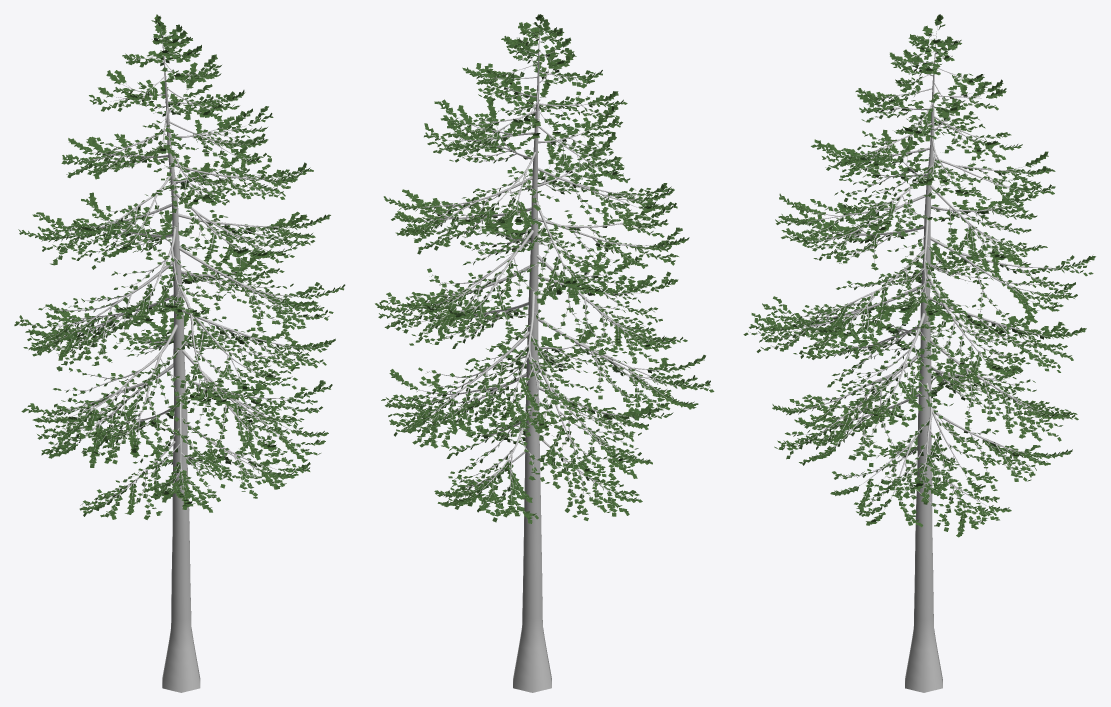
File: douglas.fbx
The picture shows the model from 3 angles, left to right: view 1: azimuth 30°, elevation 25°; view 2: azimuth 150°, elevation 25°; view 3: azimuth 270°, elevation 25°; orthographic projection. The views are drawn at different scales.
Parts seen in each view (by area): view 1: leaves, tree; view 2: leaves, tree; view 3: leaves, tree.
Part boxes in pixels (bbox=[...]): leaves: bbox=[14, 14, 345, 519]; tree: bbox=[27, 28, 326, 692]; leaves: bbox=[375, 14, 714, 523]; tree: bbox=[387, 19, 704, 692]; leaves: bbox=[743, 14, 1095, 537]; tree: bbox=[753, 26, 1084, 692].
Size of the model in its own units: 2205 by 4673 by 2259.
